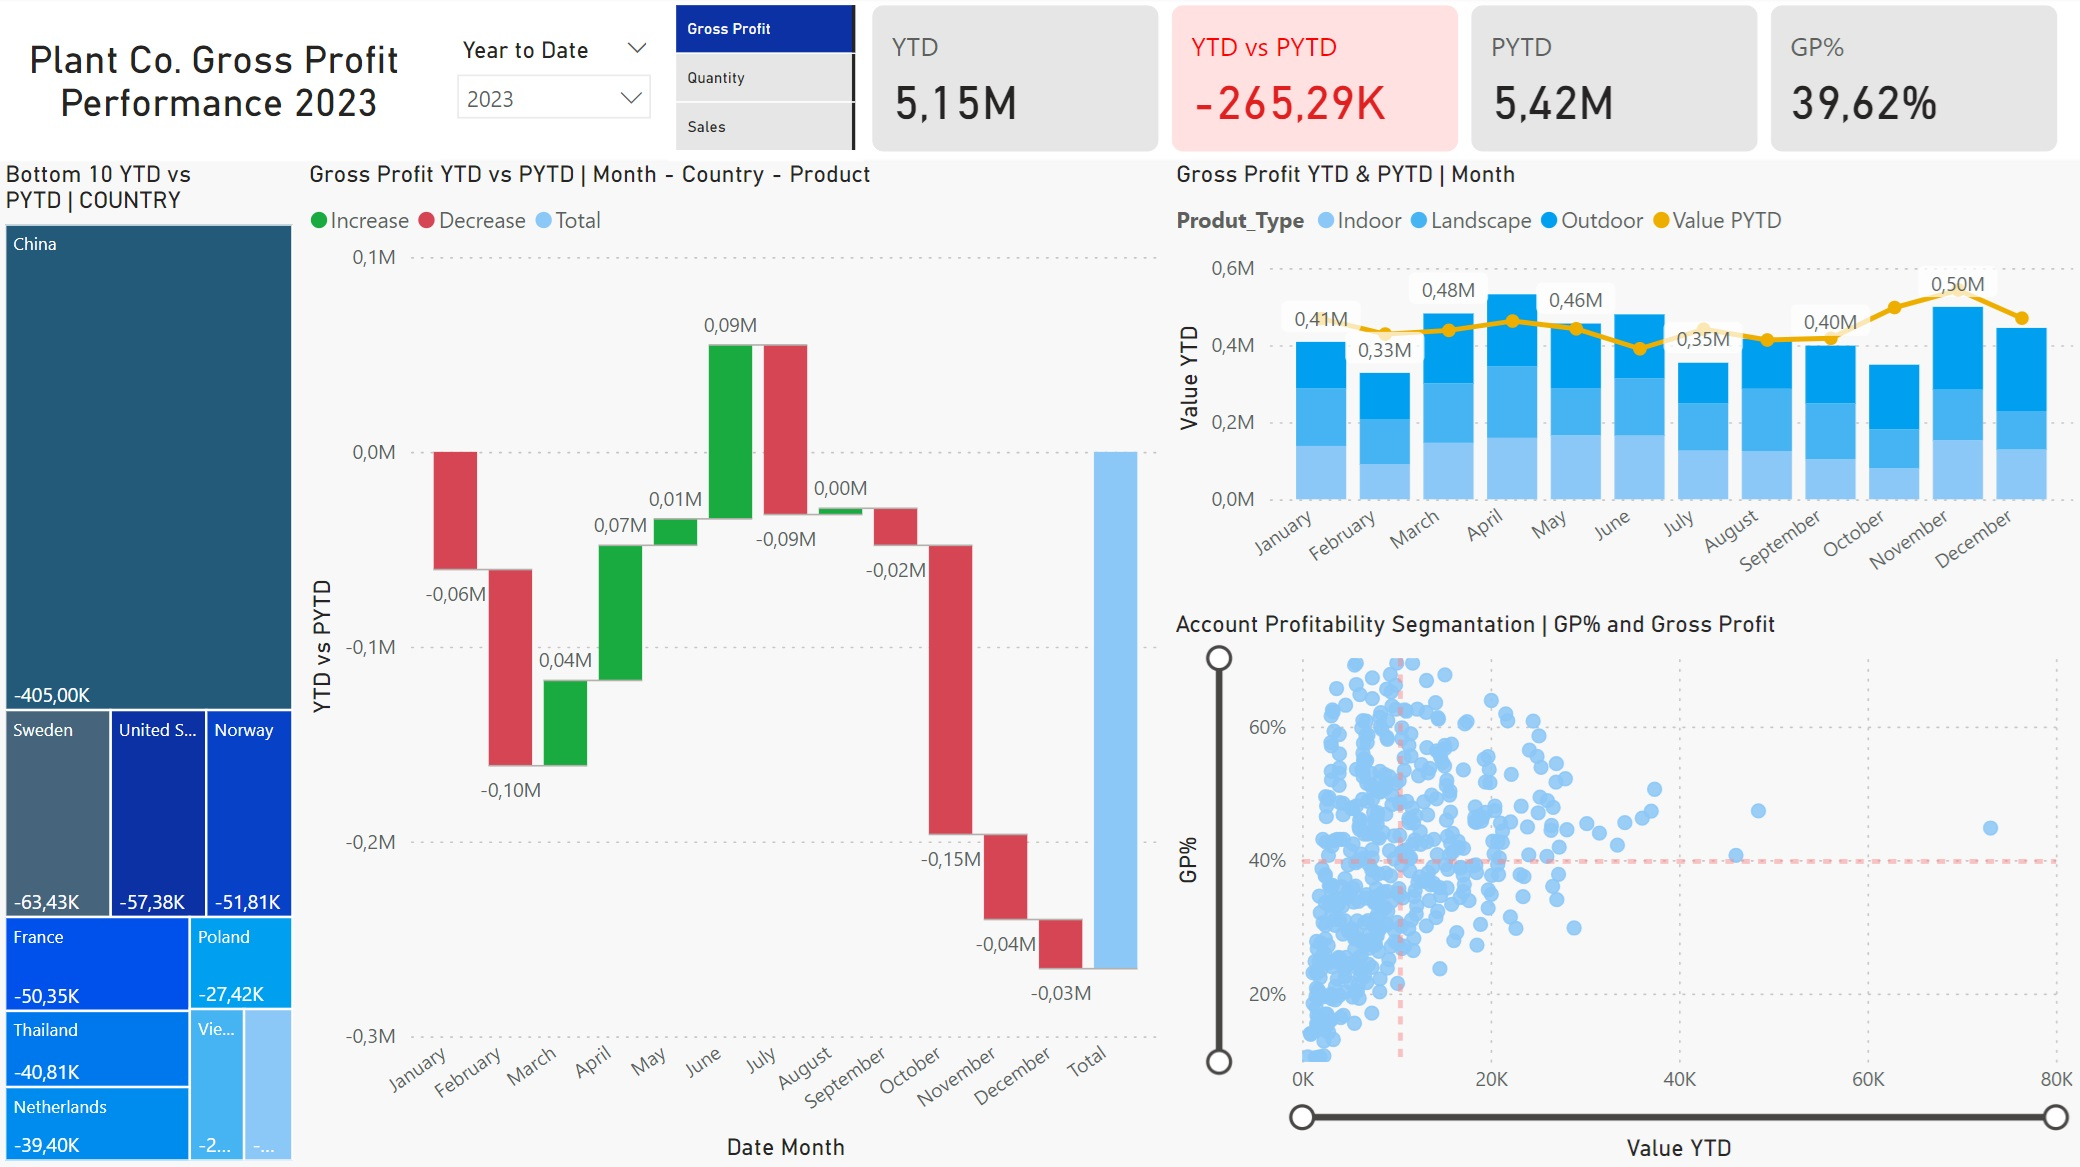

The dashboard page shown, as its layout file describes it:
{"tool":"powerbi","page":{"name":"Page 1","canvas":[1280,720],"ordinal":0},"visuals":[{"type":"advancedSlicerVisual","fields":{"Values":["Slc_Values.Values"]},"box":[412.3,0,120.4,100.8],"z":0},{"type":"cardVisual","fields":{"Data":["_Measures.S_YTD","_Measures.YTD vs PYTD","_Measures.S_PYTD","_Measures.GP%"]},"box":[532.7,0,740.1,100.8],"z":1000},{"type":"slicer","fields":{"Values":["Dim_Date.Date.Variation.Date Hierarchy.Year"]},"box":[272.8,19.7,139.5,61.4],"z":2000},{"type":"treemap","title":"Bottom 10 YTD vs PYTD | COUNTRY","fields":{"Values":["_Measures.YTD vs PYTD"],"Group":["Dim_Account.country"]},"box":[0,100.8,186.5,619.1],"z":3000},{"type":"waterfallChart","fields":{"Y":["_Measures.YTD vs PYTD"],"Category":["Dim_Date.Date.Variation.Date Hierarchy.Month","Dim_Account.country","Dim_Product.Produt_Type","Dim_Product.Product_Name"]},"box":[186.5,100.8,532.7,619.1],"z":4000},{"type":"lineStackedColumnComboChart","fields":{"Y":["_Measures.S_YTD"],"Y2":["_Measures.S_PYTD"],"Category":["Dim_Date.Date.Variation.Date Hierarchy.Quarter","Dim_Date.Date.Variation.Date Hierarchy.Month"],"Series":["Dim_Product.Produt_Type"]},"box":[719.2,100.8,560.8,276.2],"z":5000},{"type":"scatterChart","fields":{"Y":["_Measures.GP%"],"X":["_Measures.S_YTD"],"Category":["Dim_Account.Account"]},"box":[719,377,561,343],"z":6000},{"type":"card","fields":{"Values":["_Measures._Report title"]},"box":[0,0,272.9,100.8],"z":7000}]}

Visuals, with their boxes in screenshot pixels (x1, y1, x2, y2), scaled from the page's 1280x720 canvas onto the 2080x1167 screenshot:
advancedSlicerVisual - Slc_Values.Values: detection(670, 0, 866, 163)
cardVisual - _Measures.S_YTD x _Measures.YTD vs PYTD: detection(866, 0, 2068, 163)
slicer - Dim_Date.Date.Variation.Date Hierarchy.Year: detection(443, 32, 670, 131)
"Bottom 10 YTD vs PYTD | COUNTRY" treemap: detection(0, 163, 303, 1166)
waterfallChart - _Measures.YTD vs PYTD x Dim_Date.Date.Variation.Date Hierarchy.Month: detection(303, 163, 1169, 1166)
lineStackedColumnComboChart - _Measures.S_YTD x _Measures.S_PYTD: detection(1169, 163, 2079, 611)
scatterChart - _Measures.GP% x _Measures.S_YTD: detection(1168, 611, 2079, 1166)
card - _Measures._Report title: detection(0, 0, 443, 163)
